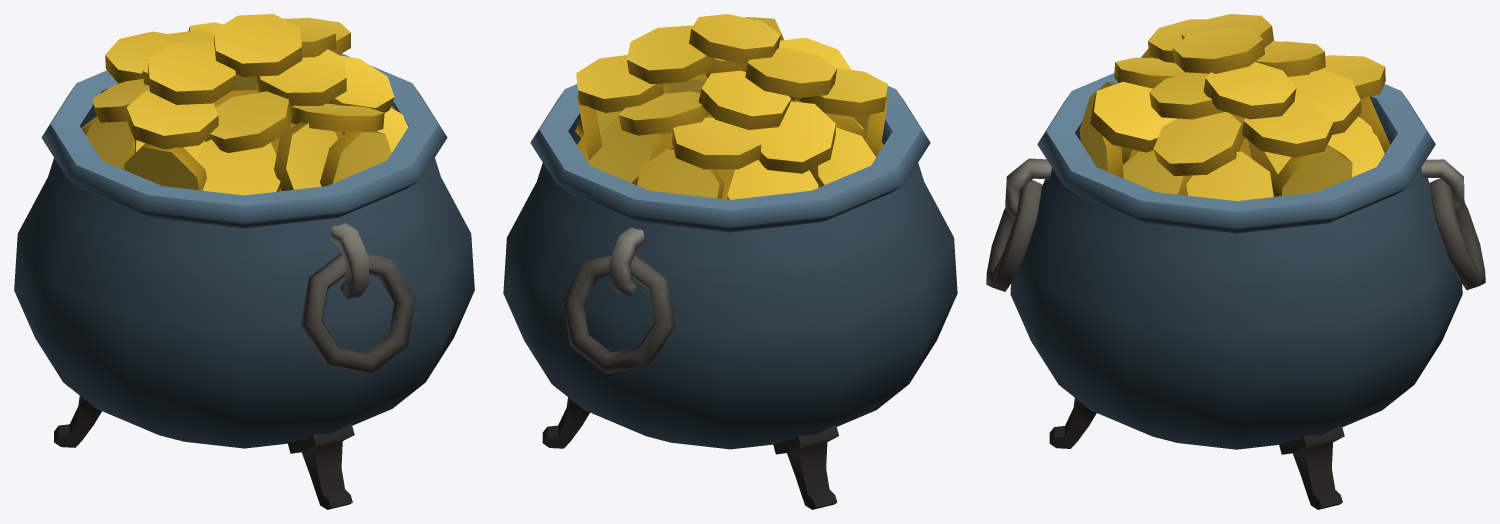
File: Cauldron_Medium_01.fbx
3 renders of one model, left to right at view 1: azimuth 30°, elevation 25°; view 2: azimuth 150°, elevation 25°; view 3: azimuth 270°, elevation 25°, orthographic.
Parts seen in each view (by area): view 1: pSphere5, polySurface19, polySurface23, polySurface25, polySurface21, polySurface22, polySurface41, polySurface20, polySurface27, polySurface36, polySurface37, polySurface34 (+7 smaller); view 2: pSphere5, polySurface31, polySurface24, polySurface42, polySurface28, polySurface19, polySurface23, polySurface40, polySurface43, polySurface29, polySurface44, polySurface25 (+6 smaller); view 3: pSphere5, polySurface34, polySurface42, polySurface37, polySurface40, polySurface19, polySurface33, polySurface44, polySurface38, polySurface41, polySurface43, polySurface24 (+8 smaller).
Part boxes in pixels (bbox=[...]): pSphere5: bbox=[14, 53, 474, 509]; polySurface19: bbox=[214, 14, 302, 76]; polySurface23: bbox=[147, 42, 235, 104]; polySurface25: bbox=[126, 90, 218, 149]; polySurface21: bbox=[205, 91, 292, 152]; polySurface22: bbox=[197, 139, 280, 195]; polySurface41: bbox=[259, 49, 346, 106]; polySurface20: bbox=[274, 122, 337, 190]; polySurface27: bbox=[124, 143, 206, 190]; polySurface36: bbox=[320, 131, 391, 186]; polySurface37: bbox=[291, 103, 384, 132]; polySurface34: bbox=[326, 55, 394, 112]; pSphere5: bbox=[503, 84, 957, 509]; polySurface31: bbox=[757, 101, 835, 173]; polySurface24: bbox=[698, 70, 790, 129]; polySurface42: bbox=[627, 25, 714, 84]; polySurface28: bbox=[672, 117, 761, 169]; polySurface19: bbox=[689, 14, 780, 63]; polySurface23: bbox=[745, 48, 836, 97]; polySurface40: bbox=[576, 55, 663, 112]; polySurface43: bbox=[588, 116, 667, 185]; polySurface29: bbox=[637, 148, 724, 198]; polySurface44: bbox=[618, 91, 709, 135]; polySurface25: bbox=[800, 68, 887, 117]; pSphere5: bbox=[986, 73, 1485, 509]; polySurface34: bbox=[1153, 112, 1244, 175]; polySurface42: bbox=[1203, 62, 1296, 119]; polySurface37: bbox=[1090, 81, 1176, 152]; polySurface40: bbox=[1242, 102, 1333, 157]; polySurface19: bbox=[1172, 27, 1264, 73]; polySurface33: bbox=[1186, 151, 1273, 201]; polySurface44: bbox=[1288, 70, 1361, 134]; polySurface38: bbox=[1273, 144, 1352, 196]; polySurface41: bbox=[1149, 72, 1224, 119]; polySurface43: bbox=[1327, 116, 1384, 177]; polySurface24: bbox=[1255, 41, 1325, 76].
Bounding box in the file's own units: 4.7 × 4.67 × 5.19.
